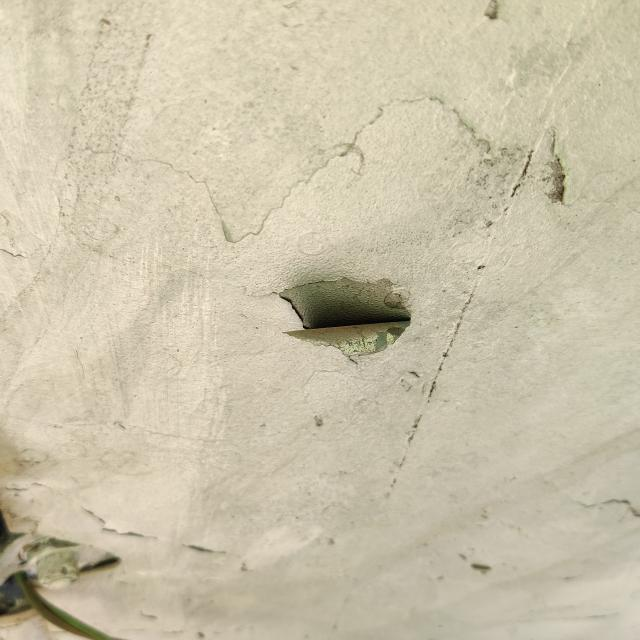paint-off: (260, 256, 433, 375)
